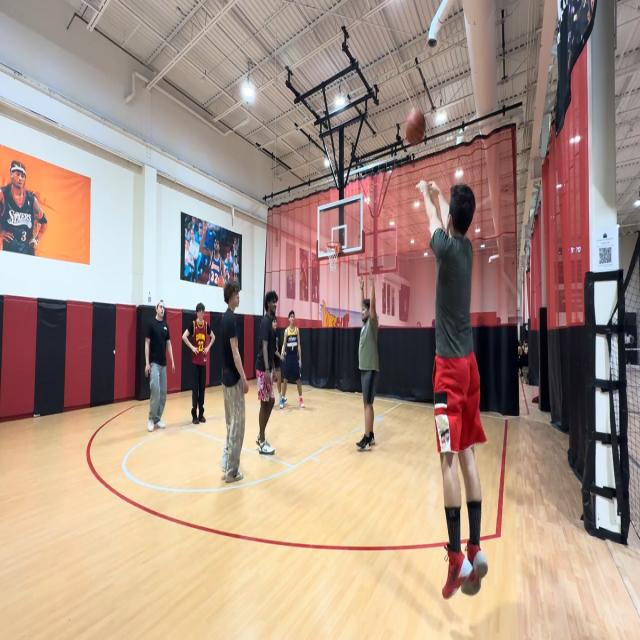Basketball: (405, 108, 426, 144)
Basketball Rim: (326, 240, 342, 273)
